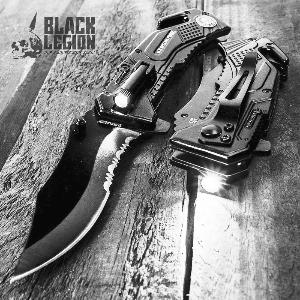knife: (2, 6, 234, 289), (163, 30, 295, 193)
